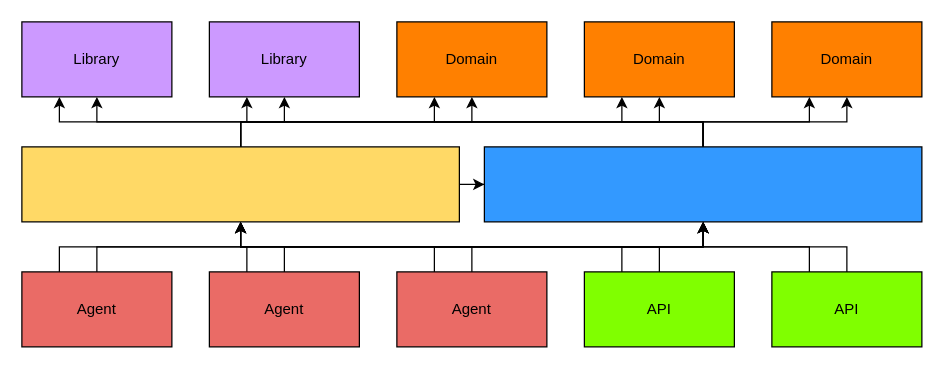
Some shapes in this 944 by 369 pixel diagram are drawn without their labels. Here are the shapes that lost their labels. From the top down, the centre of each, then its label:
point (240, 184): Application
point (702, 184): Infrastructure
